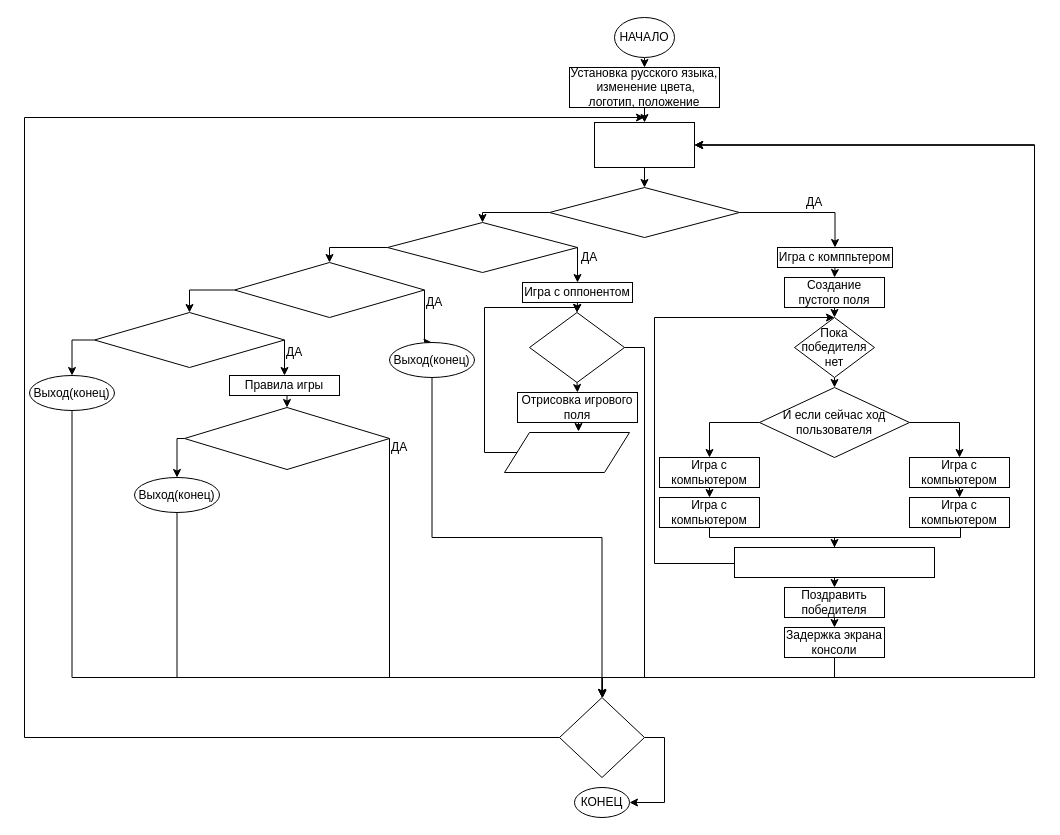
This 1060x835 diagram has some shape labels left out. The box of each missing label's shape, as (x1, y1, x2, y2) in pixels:
Если пользователь нажимает 0: (184, 406, 390, 470)
Если пользователь нажимает o: (386, 222, 578, 272)
Если пользователь нажимает p: (548, 186, 740, 238)
Если пользователь нажимает q: (234, 262, 424, 318)
Если пользователь нажимает w: (94, 312, 284, 368)
Меню игры (Использование getch): (594, 122, 694, 168)
Отобразить поле с учетом хода Передать ход сопернику: (734, 546, 934, 578)
Перемещение стрелками: (504, 432, 630, 472)
Пока игра не закончена: (528, 312, 624, 382)
Пока ПРАВДА: (558, 696, 644, 778)
